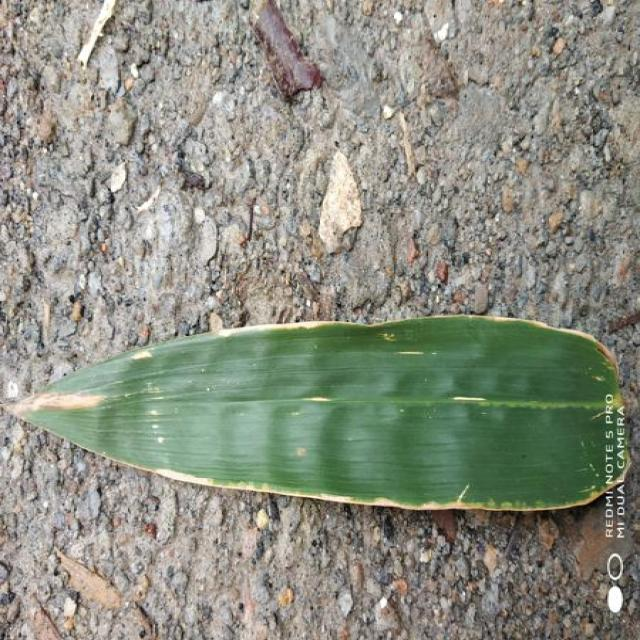Bamboo: (12, 315, 630, 511)
defectedBamboo: (12, 330, 240, 487)
